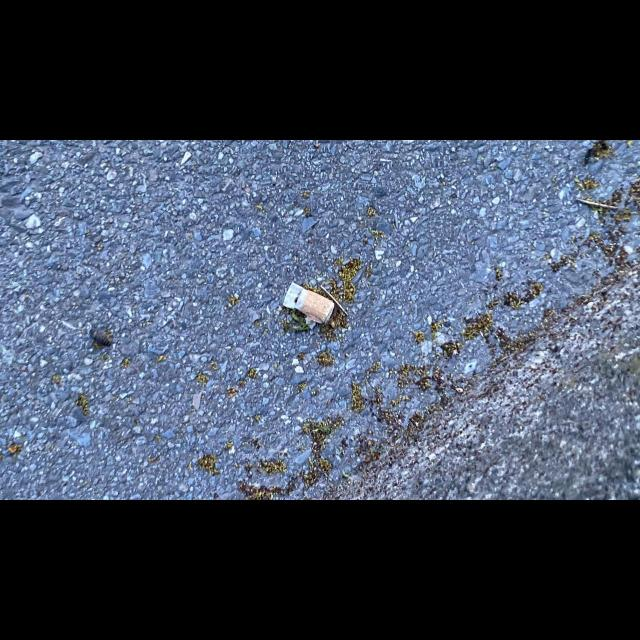cigarette: (282, 282, 335, 324)
